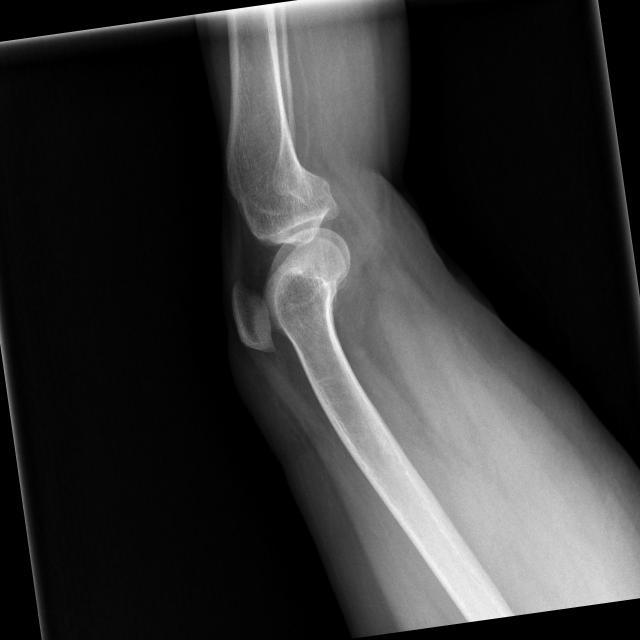Knee: (205, 165, 366, 370)
